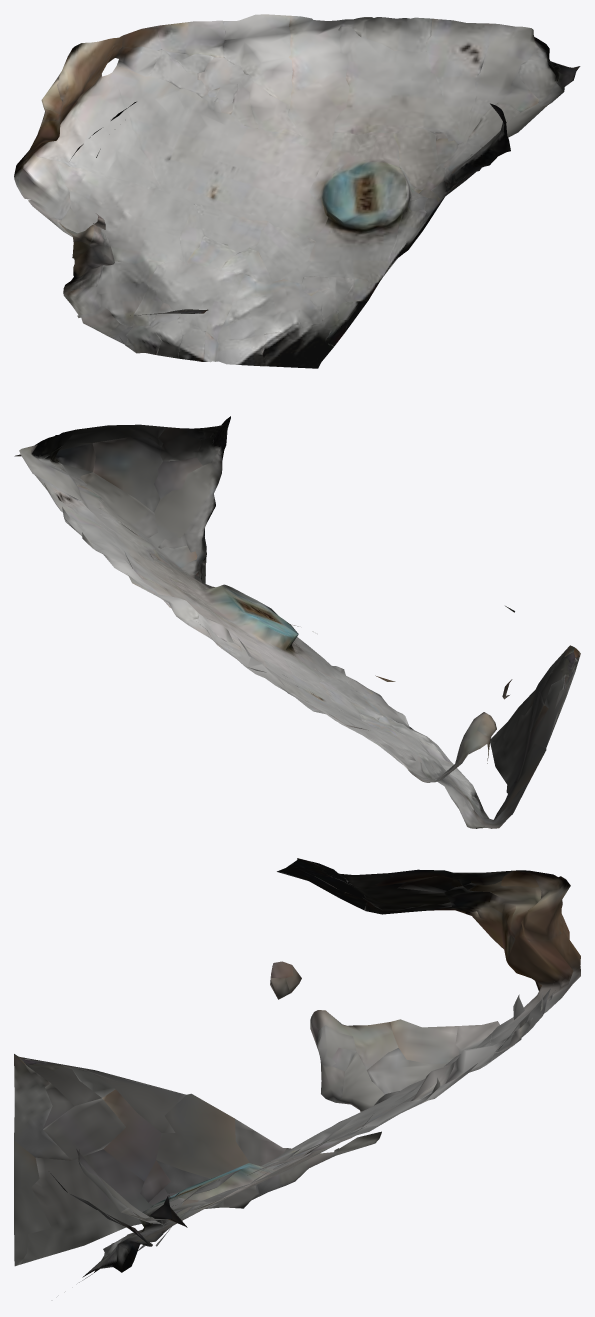
Rendered from hall.glb.
3 views of the same model, one above another, from view 1: azimuth 30°, elevation 25°; view 2: azimuth 150°, elevation 25°; view 3: azimuth 270°, elevation 25° (orthographic). The views are drawn at different scales.
Bounding box in the file's own units: 0.9354 × 0.4393 × 0.6276.
Materials: 1 (1 with a texture image).
